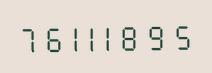eight: (127, 19, 148, 52)
five: (171, 18, 192, 51)
nine: (149, 19, 170, 51)
one: (61, 20, 82, 53), (83, 20, 104, 53), (105, 20, 126, 52)
seven: (17, 21, 38, 54)
six: (39, 21, 60, 53)
